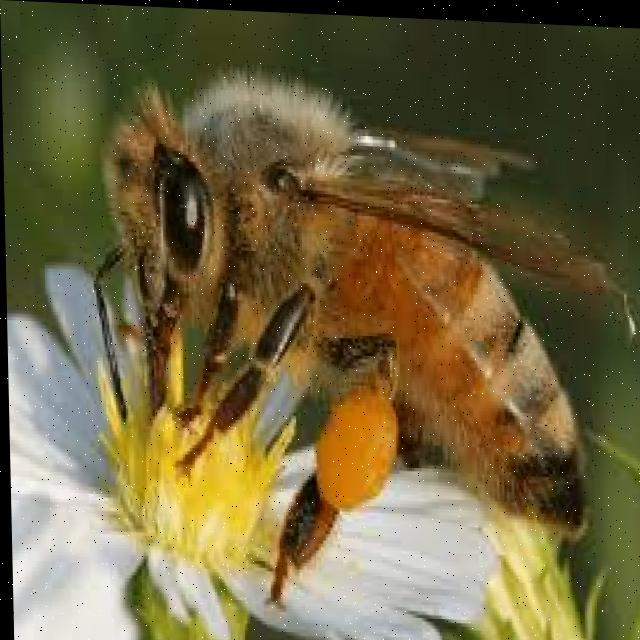Apis-mellifera-scutellata: (82, 24, 610, 616)
